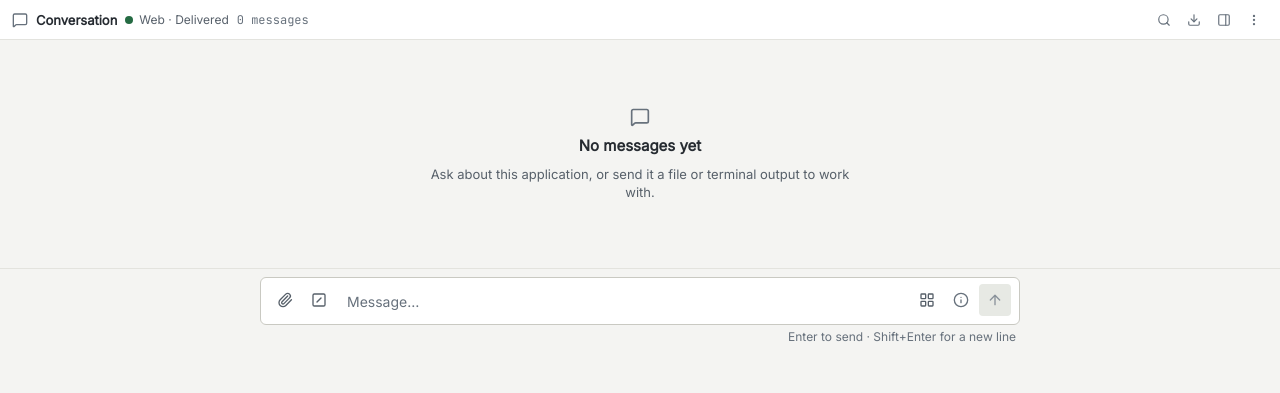
composer keyboard contract › Ctrl+Enter always sends
The image size is (1280, 393).
Expected: the element with test id "composer" is shown, [260, 277, 1020, 345]
In the text box with test id "composer-input": (623, 302) [341, 286, 905, 318], type "ctrl enter message"
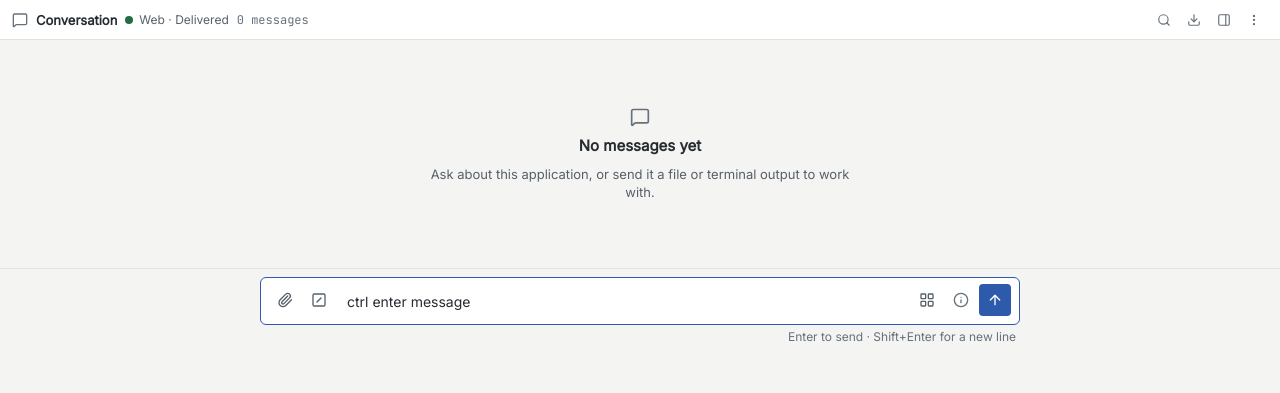
Type keys "{Control>}{Enter}{/Control}"
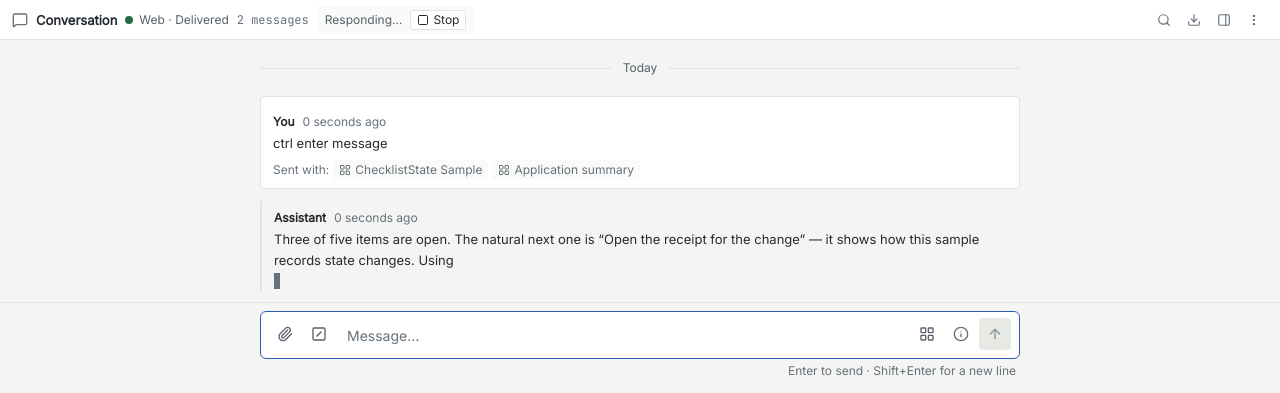
Expected: the text "ctrl enter message" is shown, [273, 135, 388, 151]
